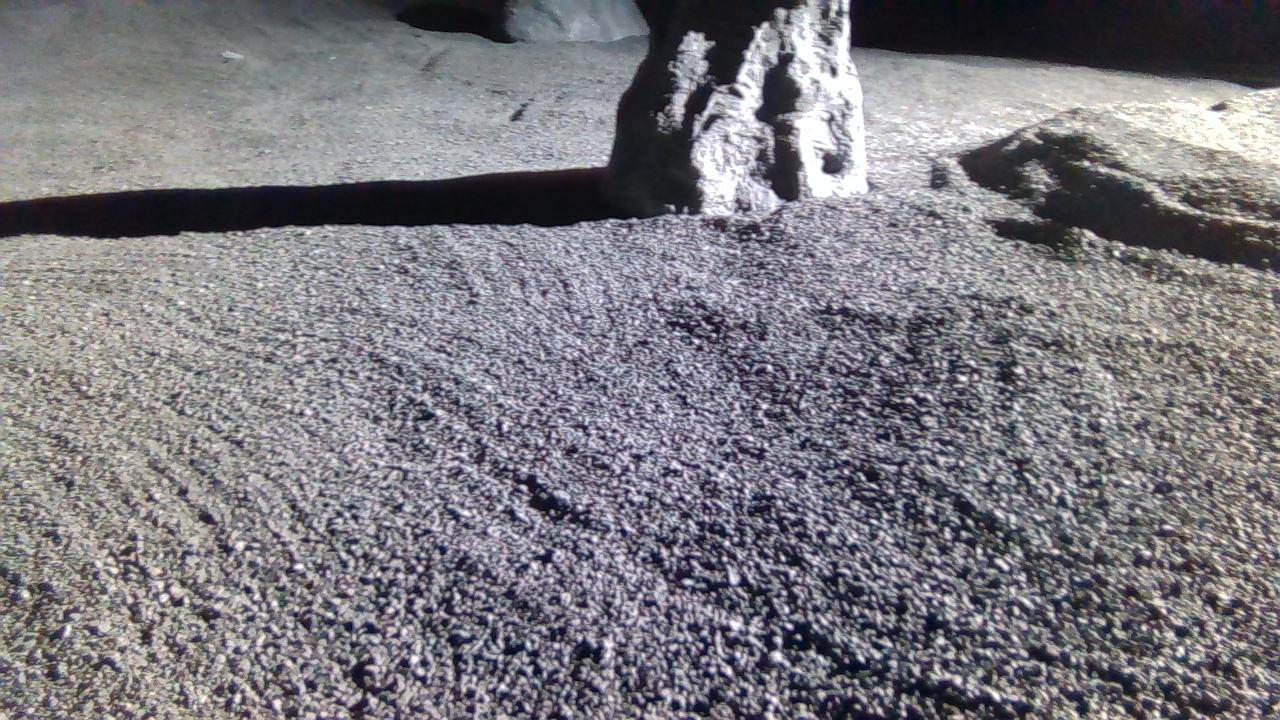rock: (602, 0, 869, 214), (506, 0, 649, 41)
